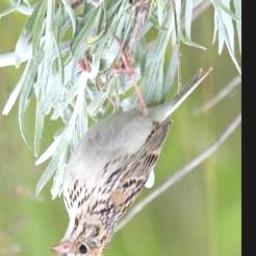Sparrow: (50, 32, 215, 256)
